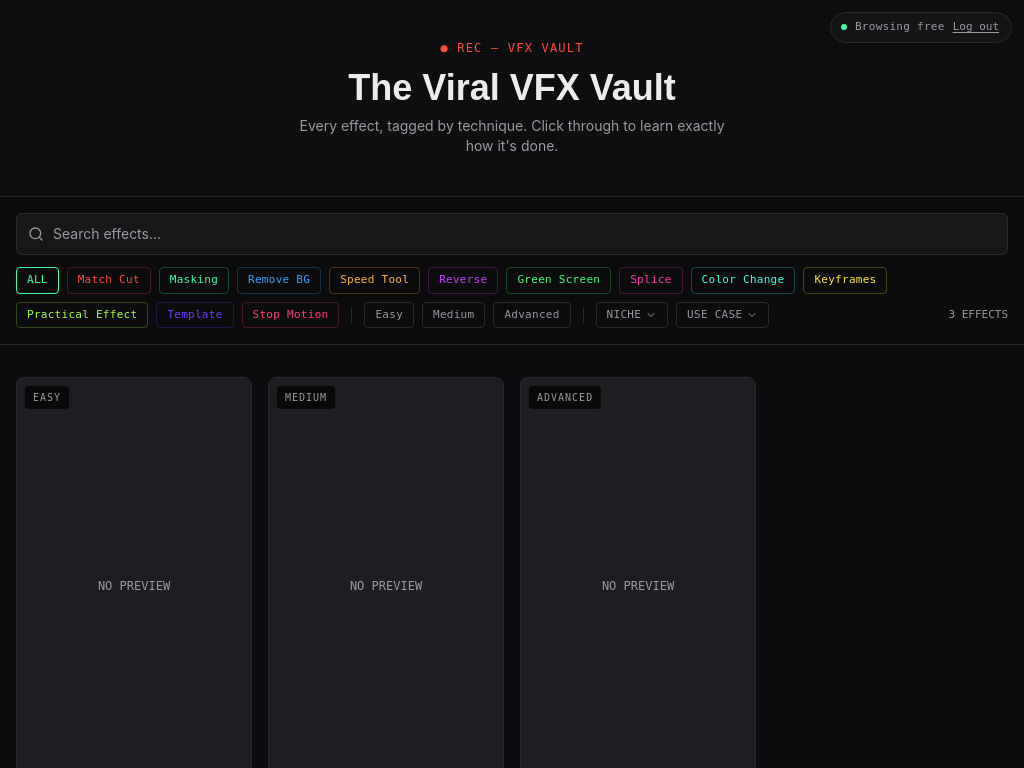
niche / use_case multi-select filters › selecting two niches is OR logic — shows effects matching either
Click the button "NICHE". click: click(632, 315)
box: [596,302,668,328]
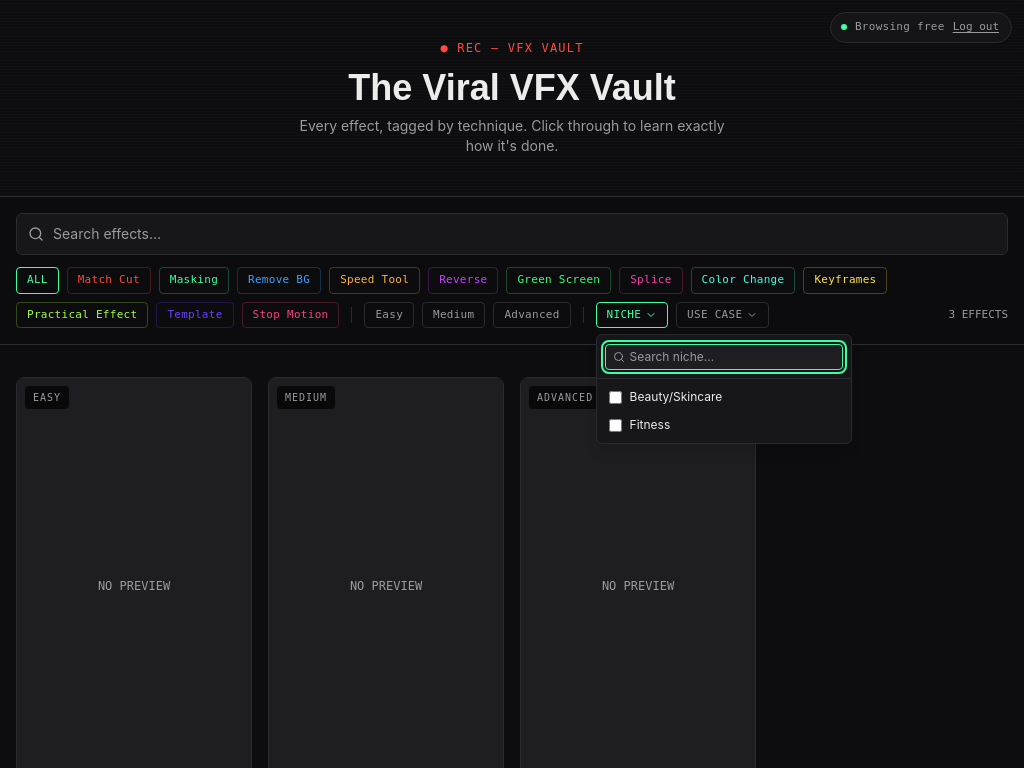
Click the checkbox labelled "Fitness". click: click(615, 425)
box: [609,418,622,432]
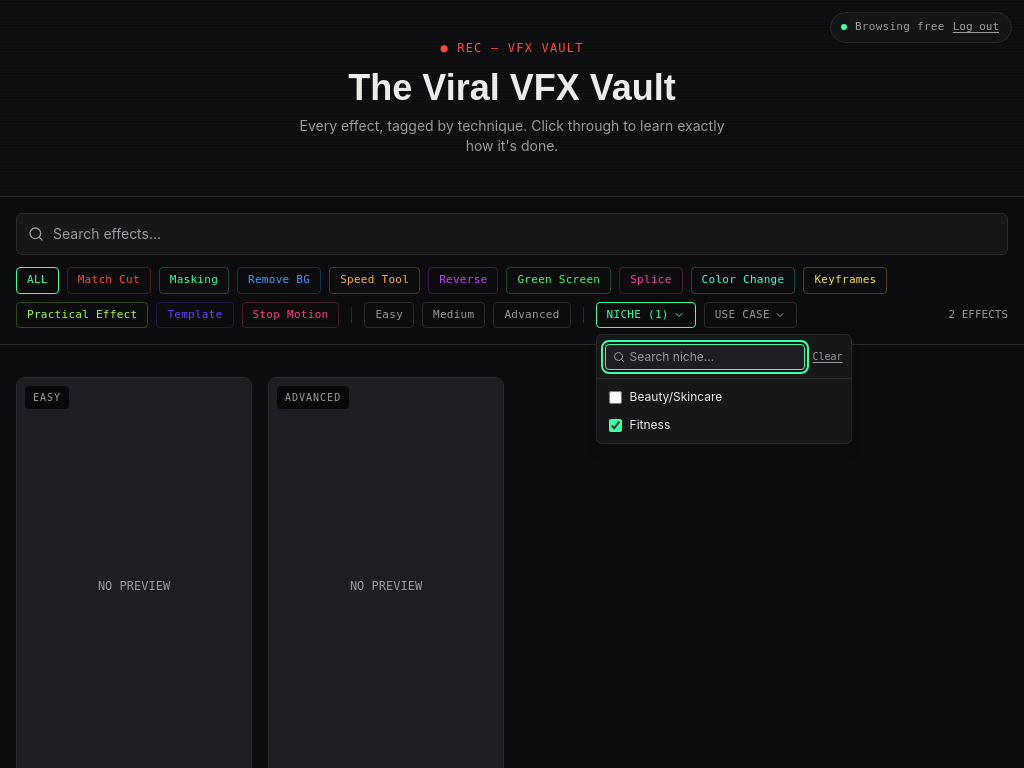
Click the checkbox labelled "Beauty/Skincare". click: click(615, 397)
box: [609,390,622,404]
(page scrolled)
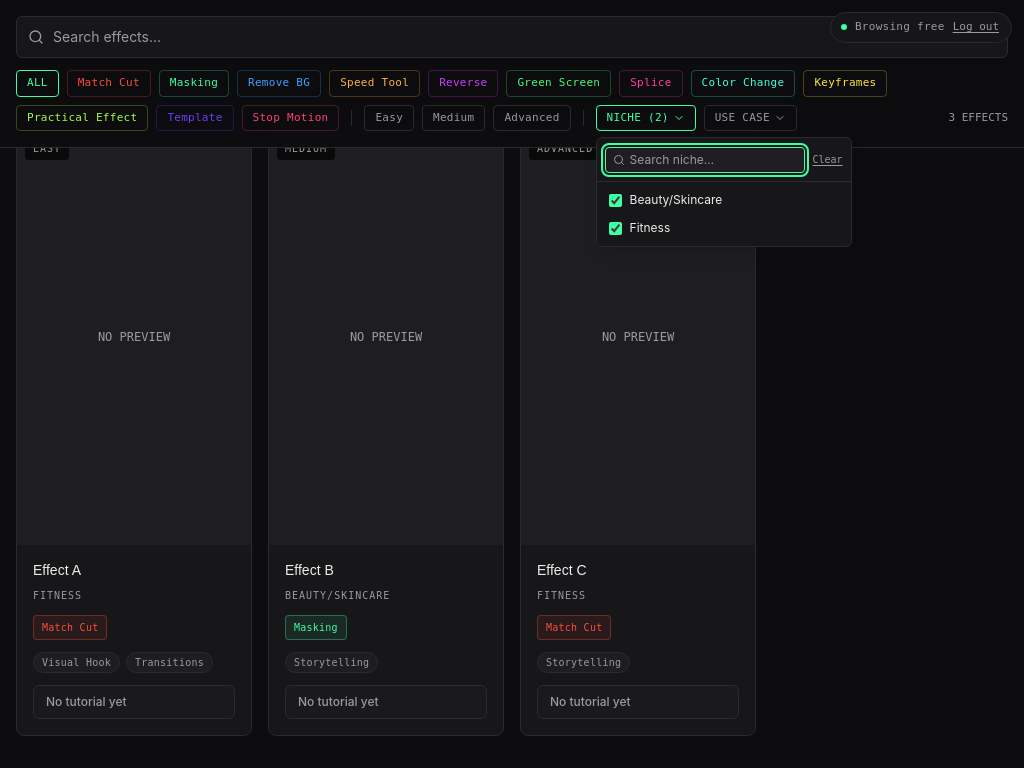
Expected: the heading "Effect A" is shown, [33,562,81,578]
Expected: the heading "Effect B" is shown, [285,562,334,578]
